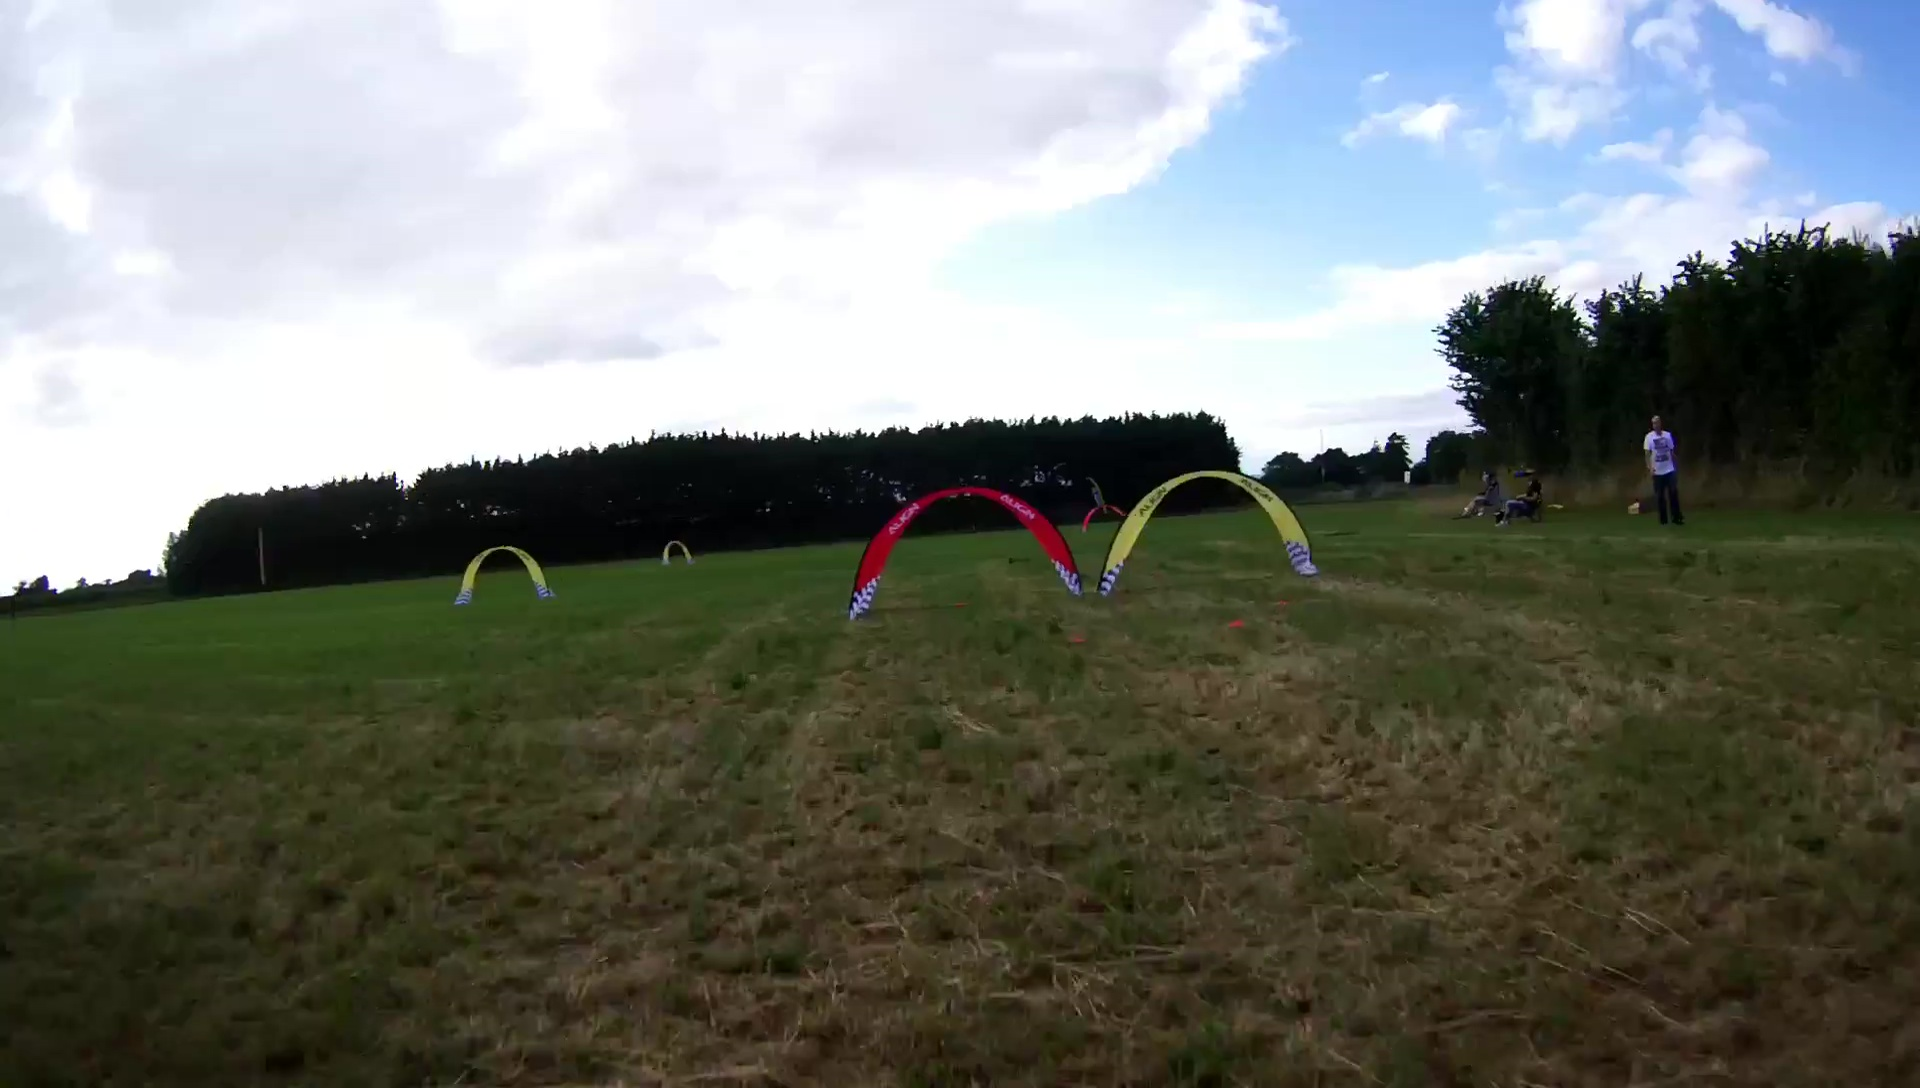gate: (843, 485, 1084, 625), (1095, 467, 1320, 600), (451, 543, 555, 609), (1077, 502, 1125, 539), (657, 539, 694, 568)
